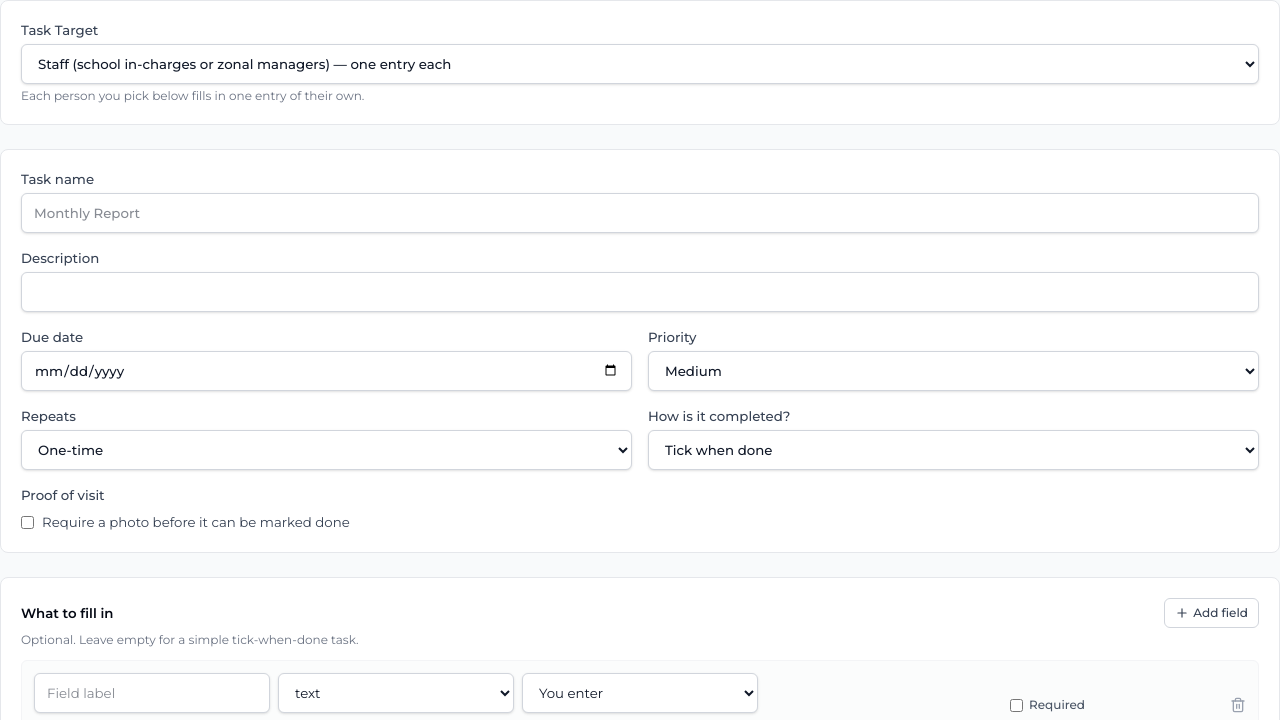
Scenario: authoring — school visit verification toggle › offers the toggle for a school task
This screenshot has width=1280, height=720.
Select "A school — one entry per school" in the dropdown labelled "Task Target" at {"x": 640, "y": 64}, box [21,44,1259,84]
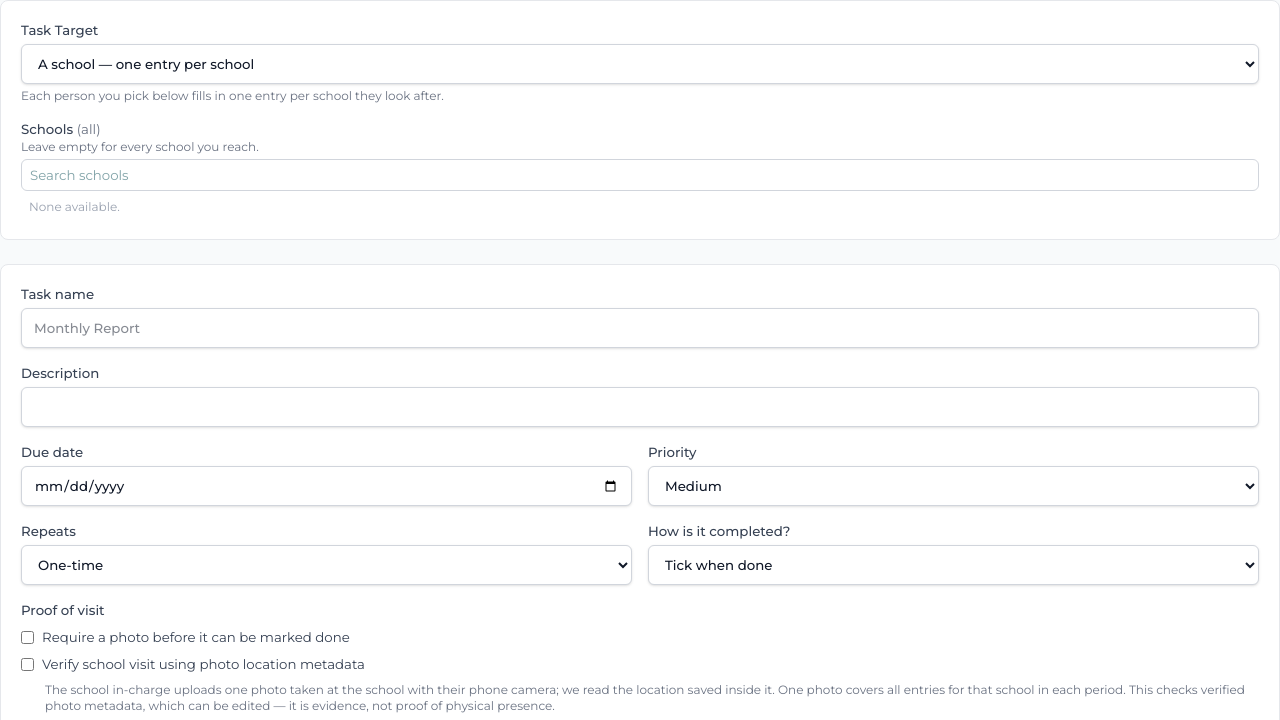
Expected: the checkbox labelled "Verify school visit using photo location metadata" is shown, [21,658,34,671]
